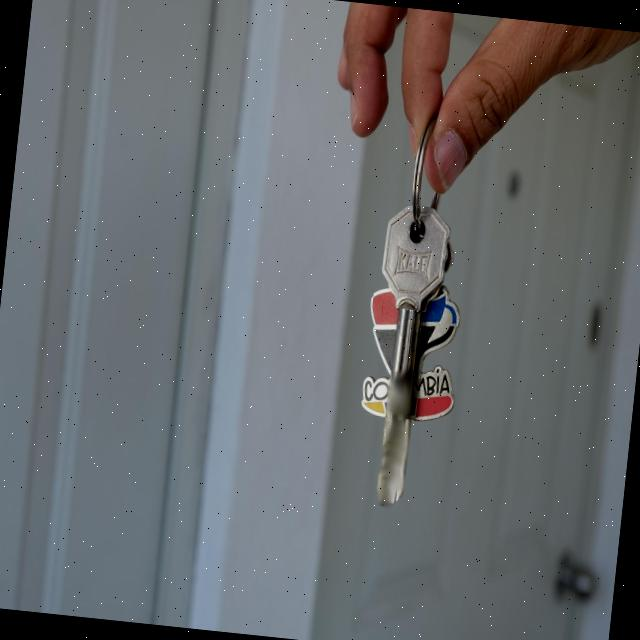Frontdoor keys: (344, 201, 464, 514)
